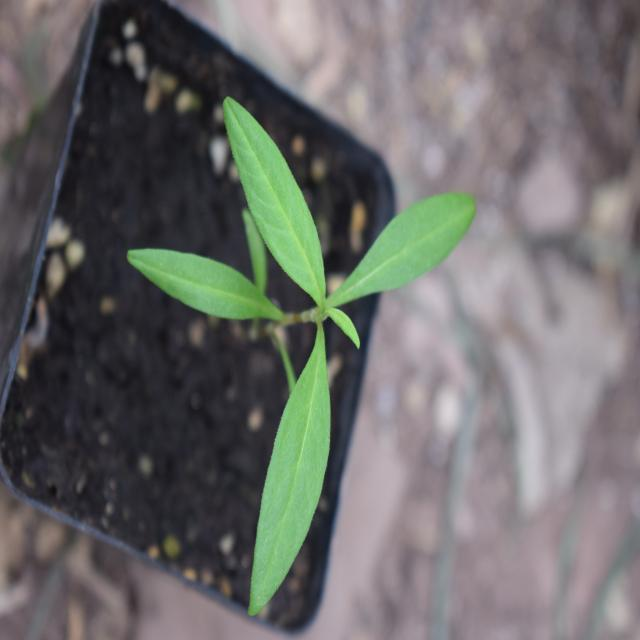white_smart_weed: (167, 119, 470, 606)
